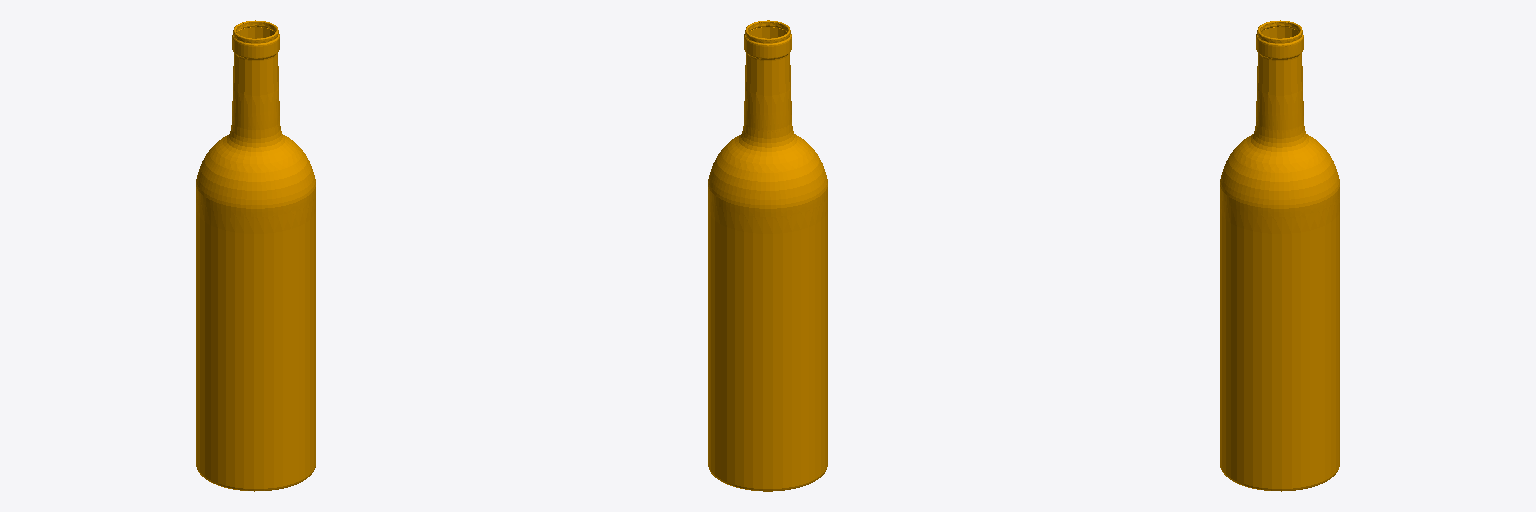
The robot description file, URDF, robot "wineBouteille_1":
<robot
  name="wineBouteille_1">
  <link name="wineBouteille_1">
    <inertial>
      <origin xyz="0.0 0.0 0.0" rpy="0 0 0"/>
      <mass value="1.0"/>
      <inertia ixx="1" ixy="0.0" ixz="0.0" iyy="1" iyz="0.0" izz="1" />
    </inertial>

    <visual>
      <geometry>
        <mesh filename="../meshes/wineBouteille_centeredSubdivided2.dae" scale="1 1 1" />
      </geometry>
     </visual>

    <collision>
      <geometry>
        <mesh filename="../meshes/wineBouteille_centeredSubdivided2.dae" scale="1 1 1" />
      </geometry>
    </collision>

  </link>
</robot>

--- What the picture shows (computed from the rendered views, not written in the file) ---
The picture shows the robot from 3 angles, left to right: view 1: azimuth 30°, elevation 25°; view 2: azimuth 150°, elevation 25°; view 3: azimuth 270°, elevation 25°; orthographic projection.
Model wineBouteille_1 with 1 links and 0 joints (none), rooted at wineBouteille_1, posed every joint at zero.
Visible links, largest first — view 1: wineBouteille_1; view 2: wineBouteille_1; view 3: wineBouteille_1.
Link boxes in pixels (bbox=[...]): wineBouteille_1: bbox=[196, 20, 315, 491]; wineBouteille_1: bbox=[708, 20, 827, 491]; wineBouteille_1: bbox=[1220, 20, 1339, 491].
Bounding box of the posed robot: 0.0929 × 0.0928 × 0.3728 m (x, y, z).
Meshes: 1 distinct files referenced, 1 mesh visuals loaded (1 Collada DAE).